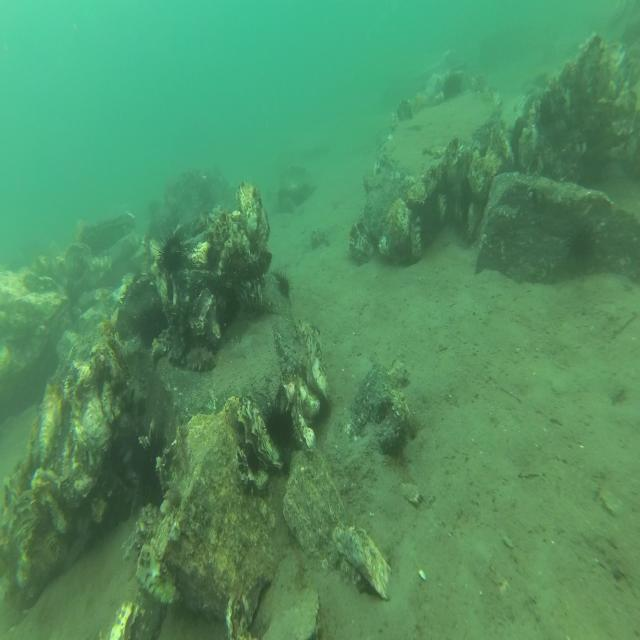echinus: (135, 425, 170, 504), (258, 393, 299, 455), (152, 227, 189, 281), (134, 305, 168, 354), (566, 224, 596, 269), (458, 177, 475, 213), (96, 362, 113, 398), (442, 71, 462, 100), (244, 445, 261, 477), (513, 116, 531, 144), (278, 271, 295, 300), (537, 95, 552, 127), (204, 243, 218, 269), (268, 265, 283, 283)
holothurian: (186, 341, 218, 373)
